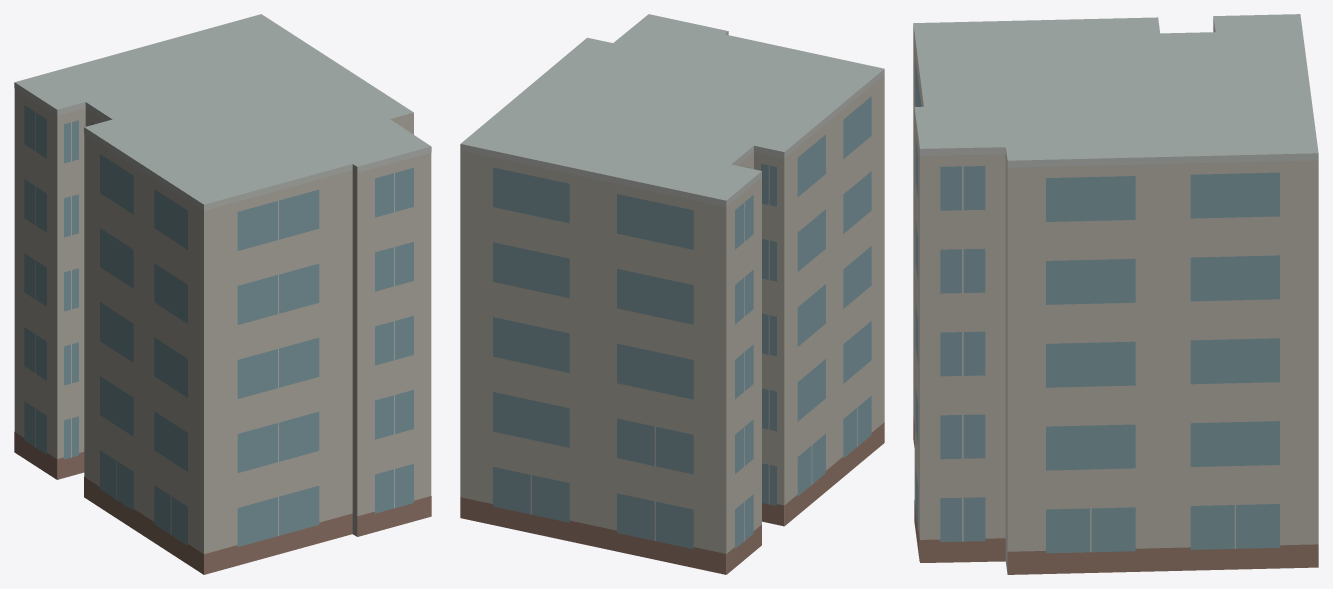
File: survey-upis-32831925.glb
The picture shows the model from 3 angles, left to right: view 1: azimuth 30°, elevation 25°; view 2: azimuth 150°, elevation 25°; view 3: azimuth 270°, elevation 25°; orthographic projection. The views are drawn at different scales.
Parts seen in each view (by area): view 1: survey-upis-32831925.tmp; view 2: survey-upis-32831925.tmp; view 3: survey-upis-32831925.tmp.
Boxes of the visible parts, x1=… form: survey-upis-32831925.tmp: x1=14, y1=14, x2=431, y2=574; survey-upis-32831925.tmp: x1=460, y1=14, x2=884, y2=574; survey-upis-32831925.tmp: x1=913, y1=14, x2=1318, y2=574.
Bounding box in the file's own units: 10.95 × 14.4 × 12.78.
